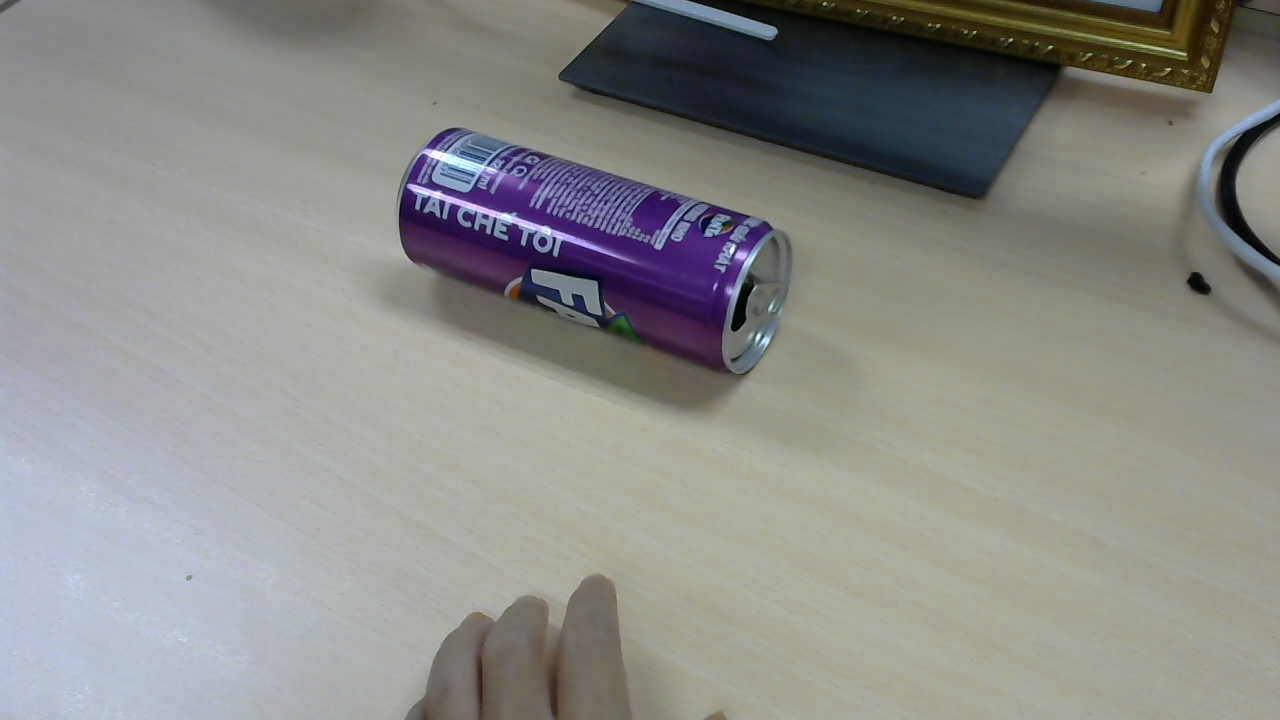Fanta: (397, 129, 795, 380)
